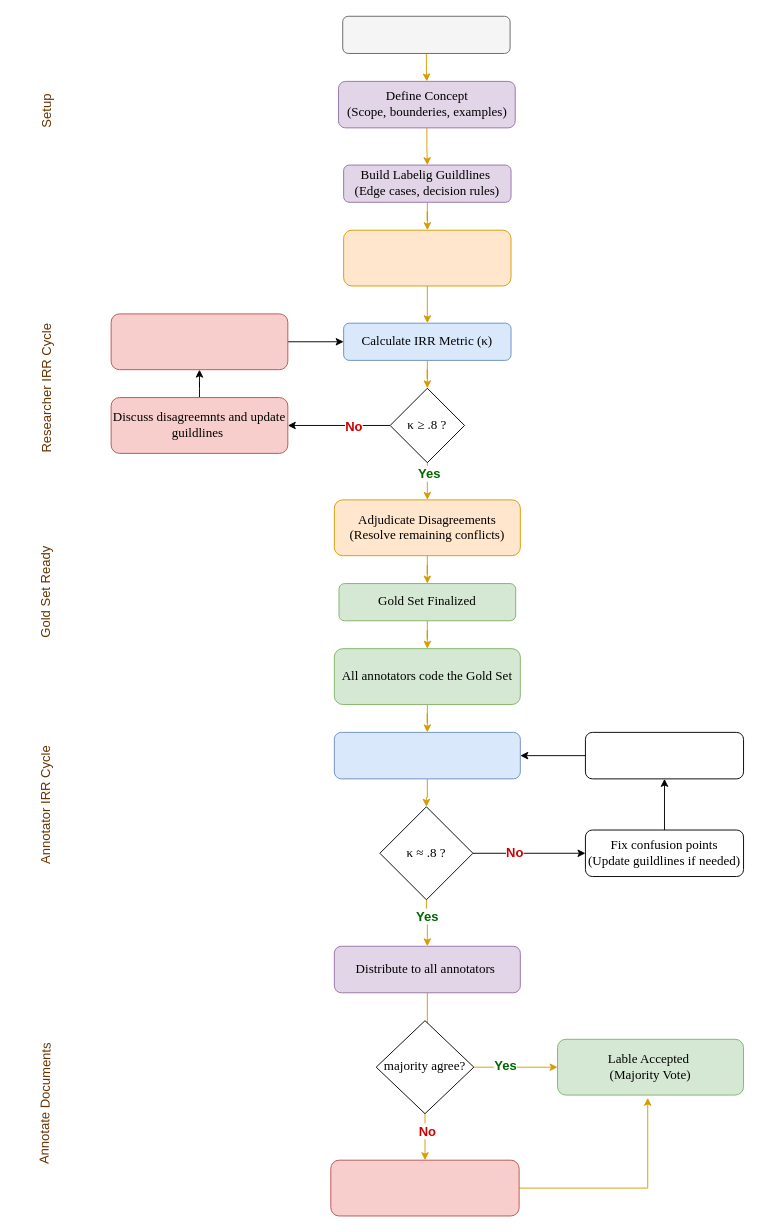
The diagram is 760 pixels wide and 1232 high, and some of its shapes have lost their labels. The shapes that lost their labels are listed below. From the top down, each one's box as (x1, y1, x2, y2) in pixels, then its label:
(342, 15, 510, 53): Classification Question
(343, 229, 511, 286): Small group double code a small sample to create gold set
(110, 313, 288, 370): Recode anorther sample (Fresh items independently)
(333, 731, 520, 779): Calculate IRR across all
(585, 731, 744, 779): Resample and Reannotate (New calibration batch)
(330, 1159, 519, 1216): Adjudication (Senior reviewer decides)
